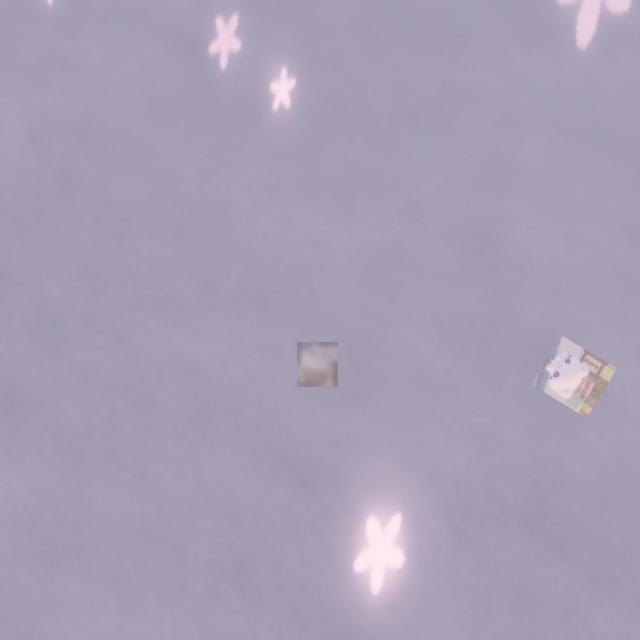urso_branco: (531, 335, 617, 418), (297, 342, 338, 387)
